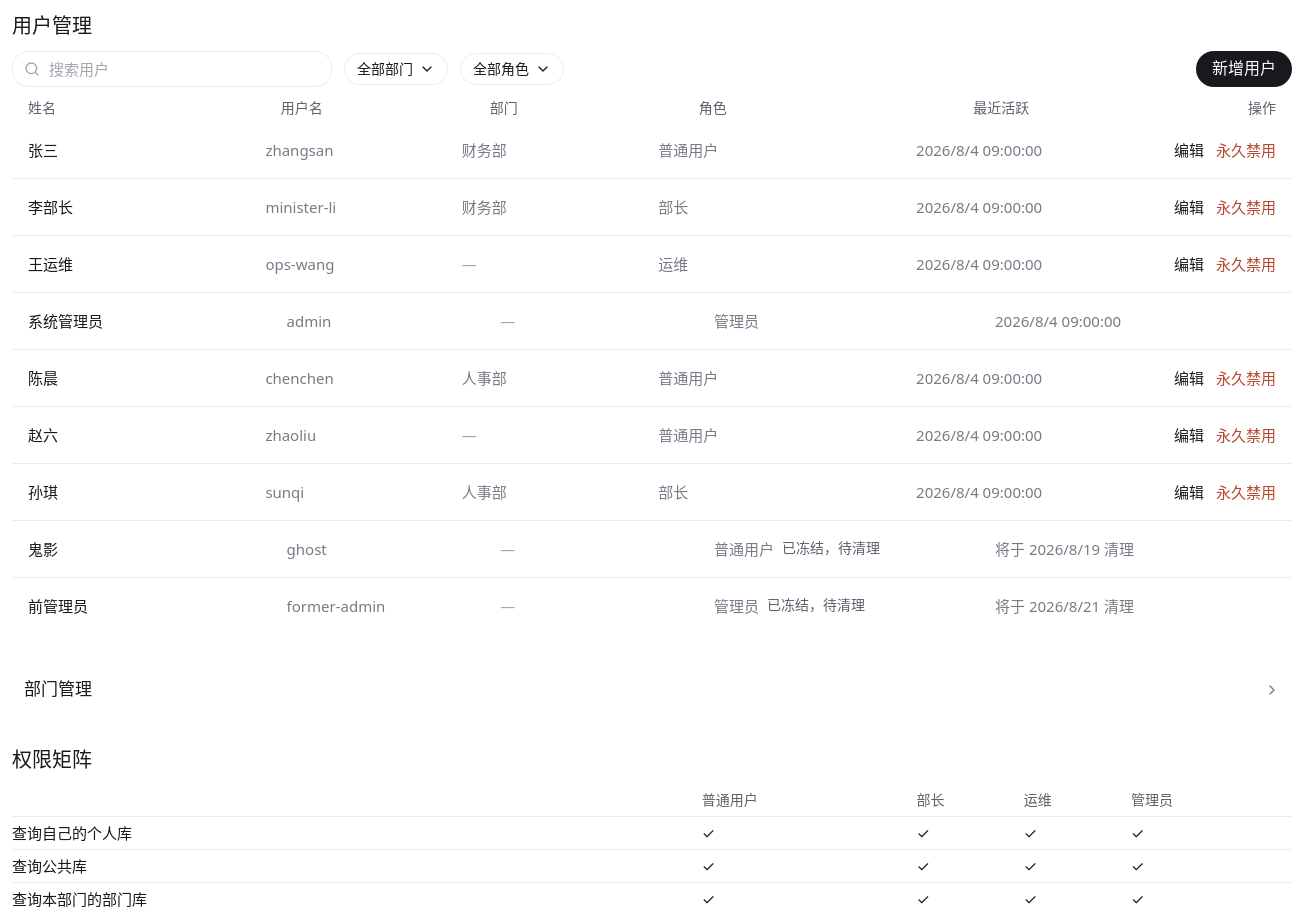
Test: 工具行：搜索防抖与筛选叠加 › 无结果时展示空态；点击清除条件回到无筛选第一页
Expected: the text "张三" is shown, [28, 140, 58, 160]
Type "不存在的人" into the search field with placeholder "搜索用户".
click(172, 69); type("不存在的人")  # box [12, 51, 332, 87]
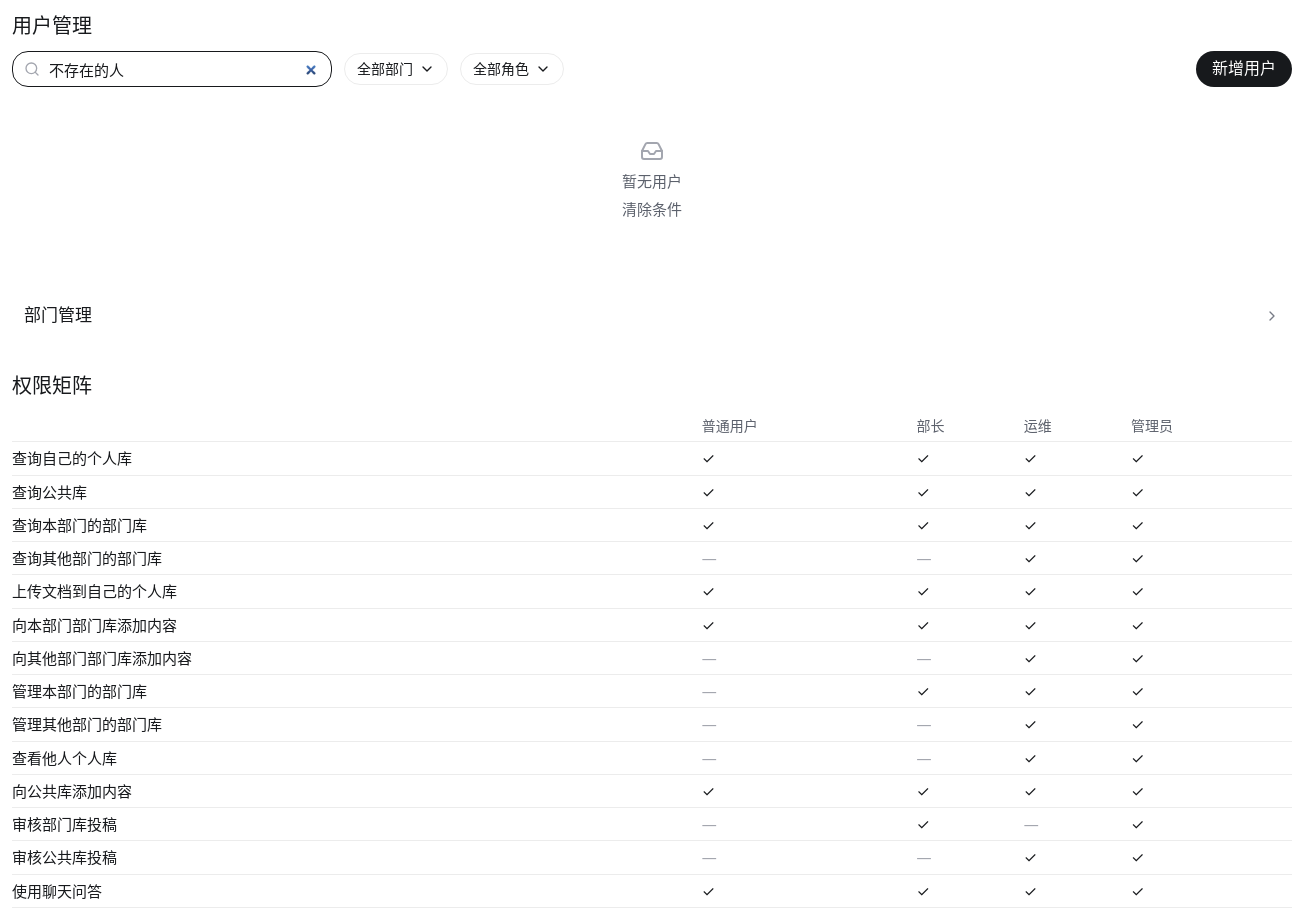
Result: the text "暂无用户" is shown at [622, 171, 682, 191]
Click the button "清除条件".
click(652, 209)  # box [622, 199, 682, 220]
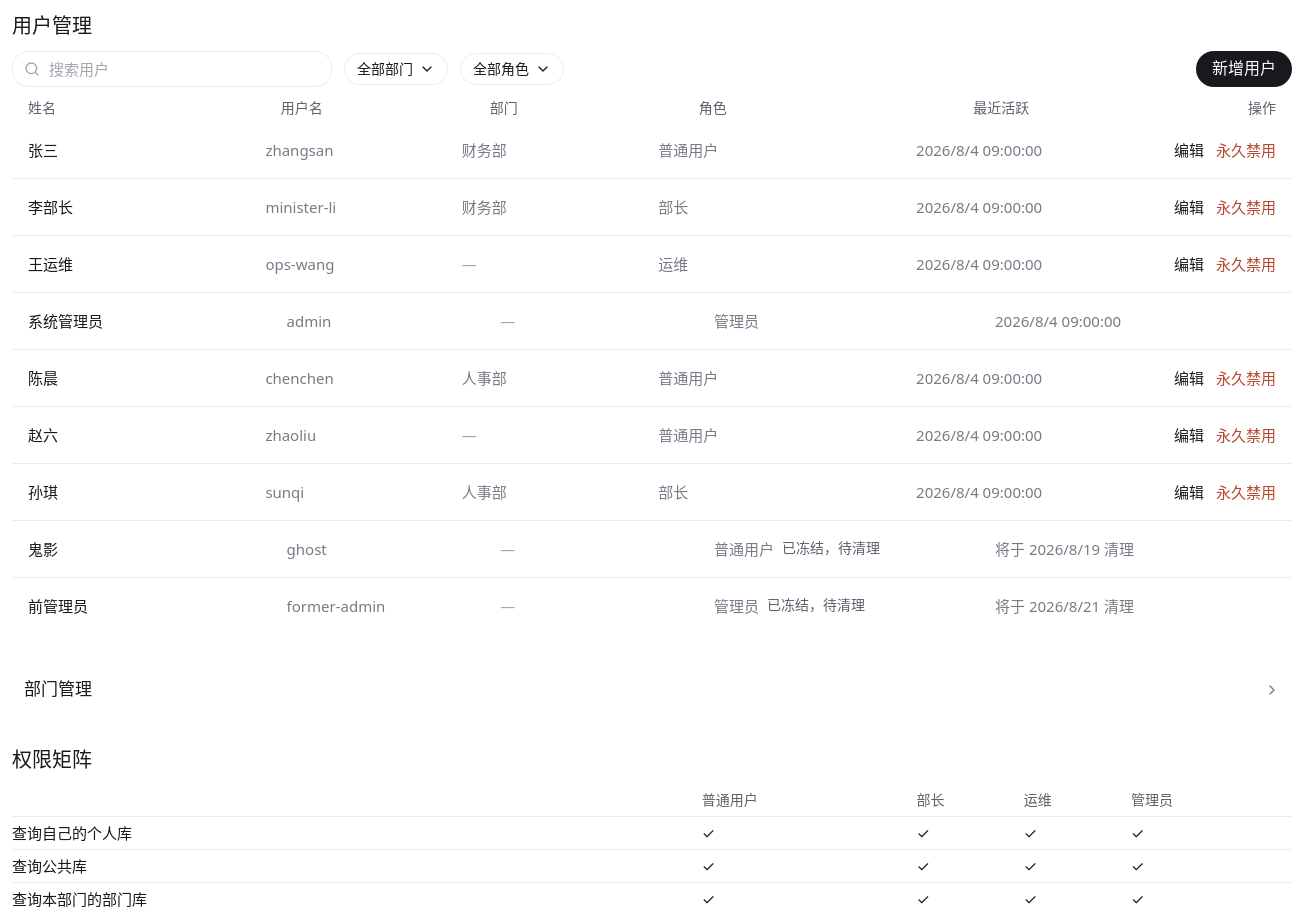
Result: the text "张三" is shown at [28, 140, 58, 160]
